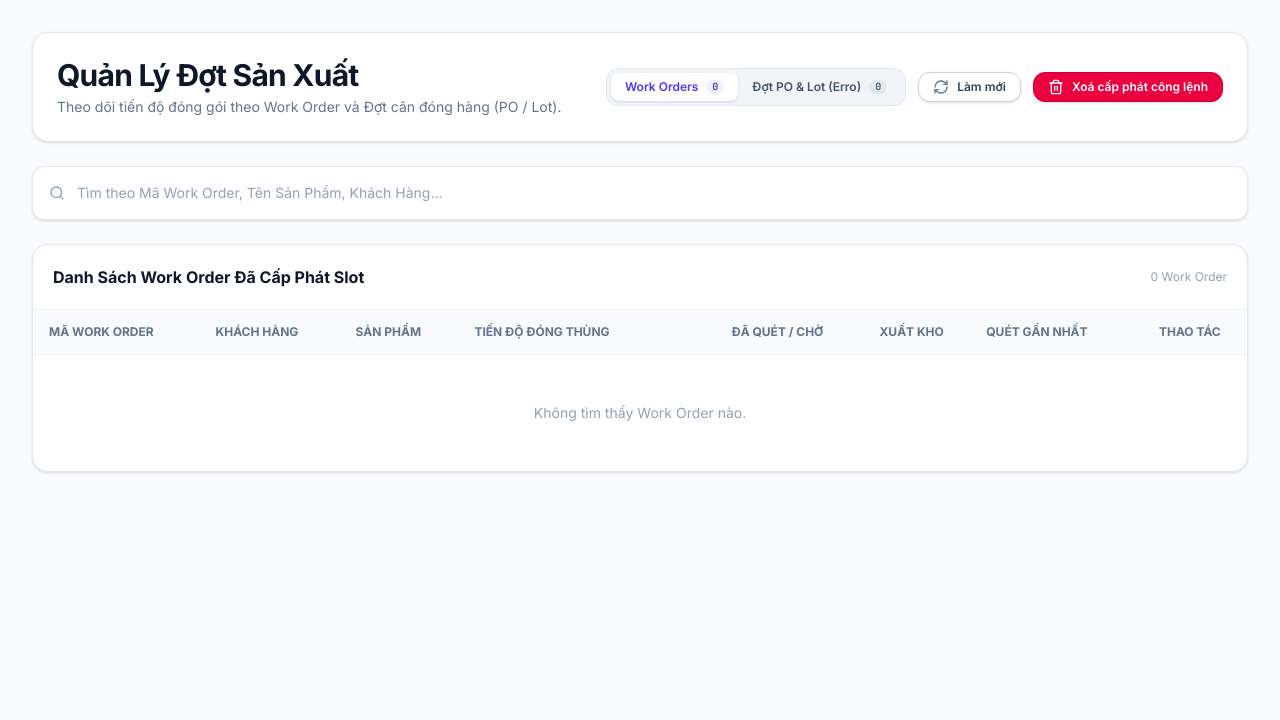
Test: ProductionRunsPage › only exposes confirmation after an unscanned slot allocation passes the check
This screenshot has width=1280, height=720.
Click the button with test id "open-slot-cancellation".
click(1128, 87)  # box top-left (1033, 72), bottom-right (1223, 102)
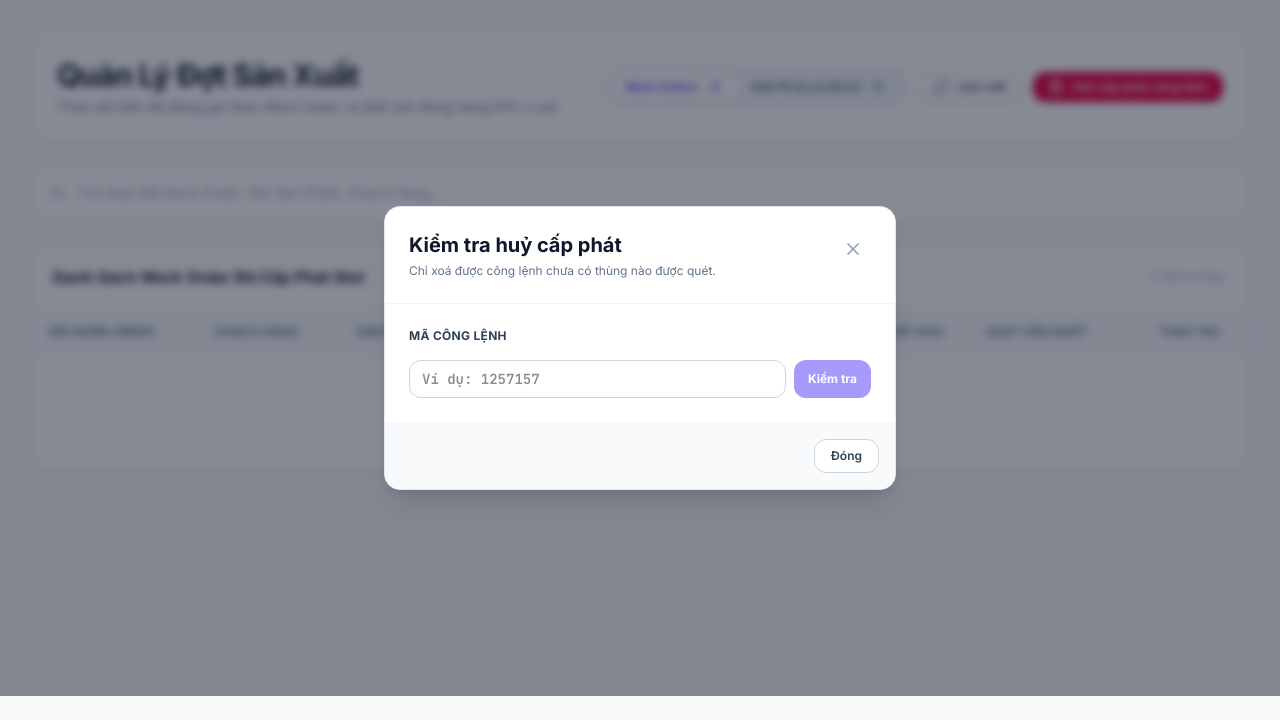
Type "1257157" into the field with test id "cancellation-job-order-input".
click(598, 379); type("1257157")  # box top-left (409, 360), bottom-right (786, 398)
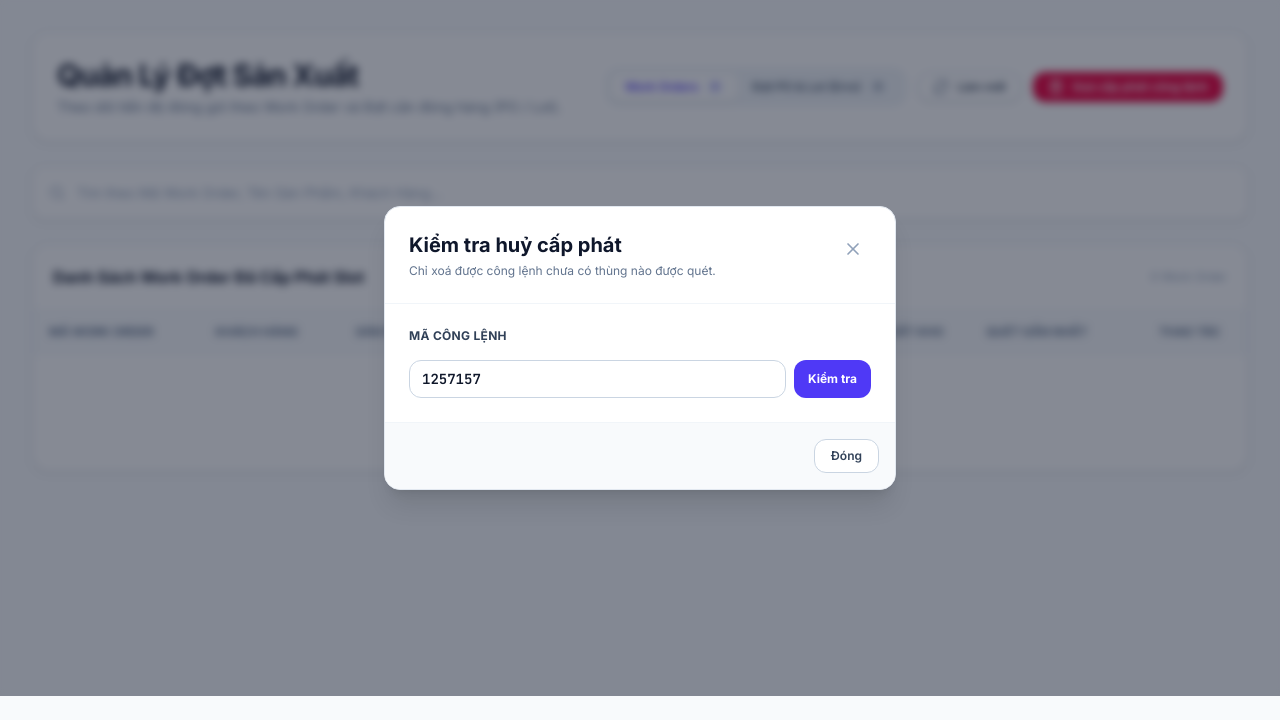
Click the button with test id "check-slot-cancellation".
click(832, 379)  # box top-left (794, 360), bottom-right (871, 398)
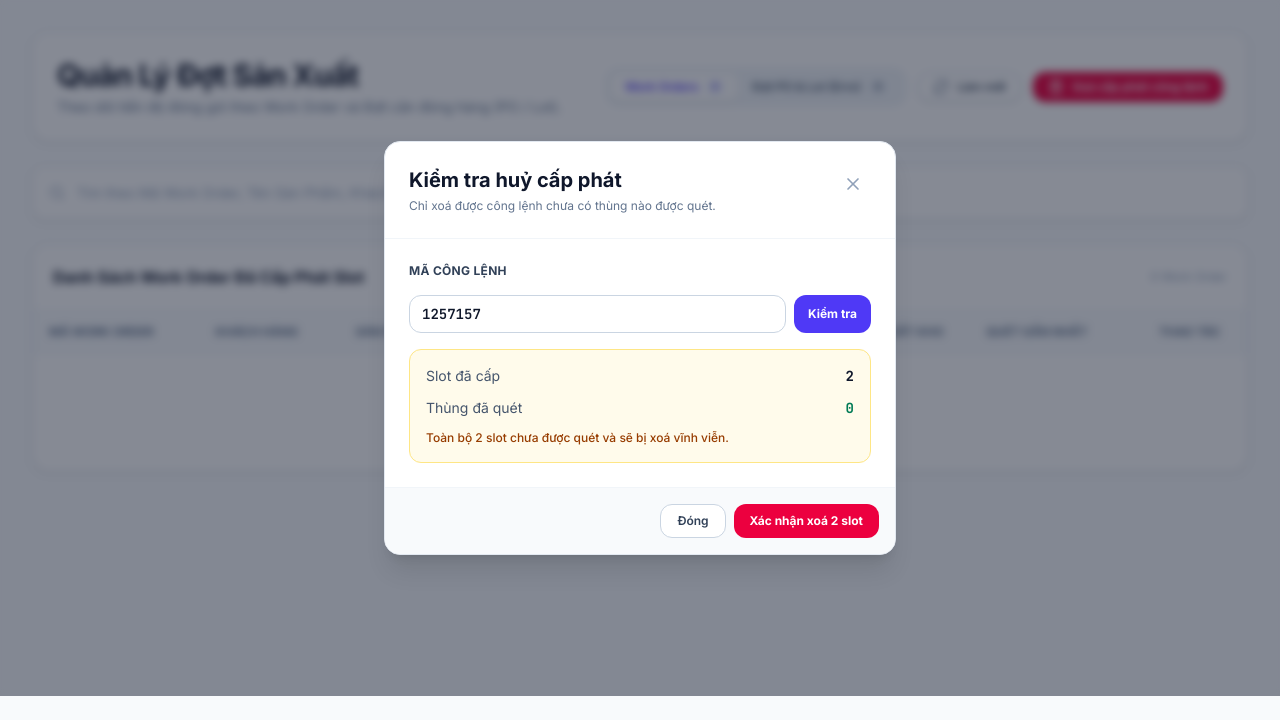
Expected: the text "Slot đã cấp" is shown, top-left (426, 366), bottom-right (500, 386)
Expected: the text "2" is shown, top-left (846, 366), bottom-right (854, 386)
Expected: the button with test id "confirm-slot-cancellation" reads "Xác nhận xoá 2 slot", top-left (734, 504), bottom-right (879, 538)
